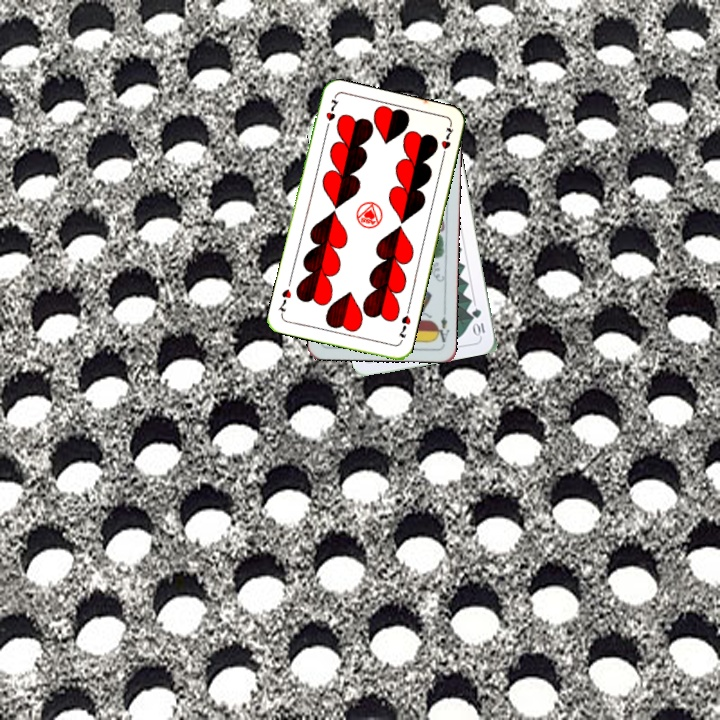EA: (432, 306, 452, 345)
G10: (468, 304, 487, 338)
H7: (321, 94, 341, 134), (394, 311, 413, 340)
